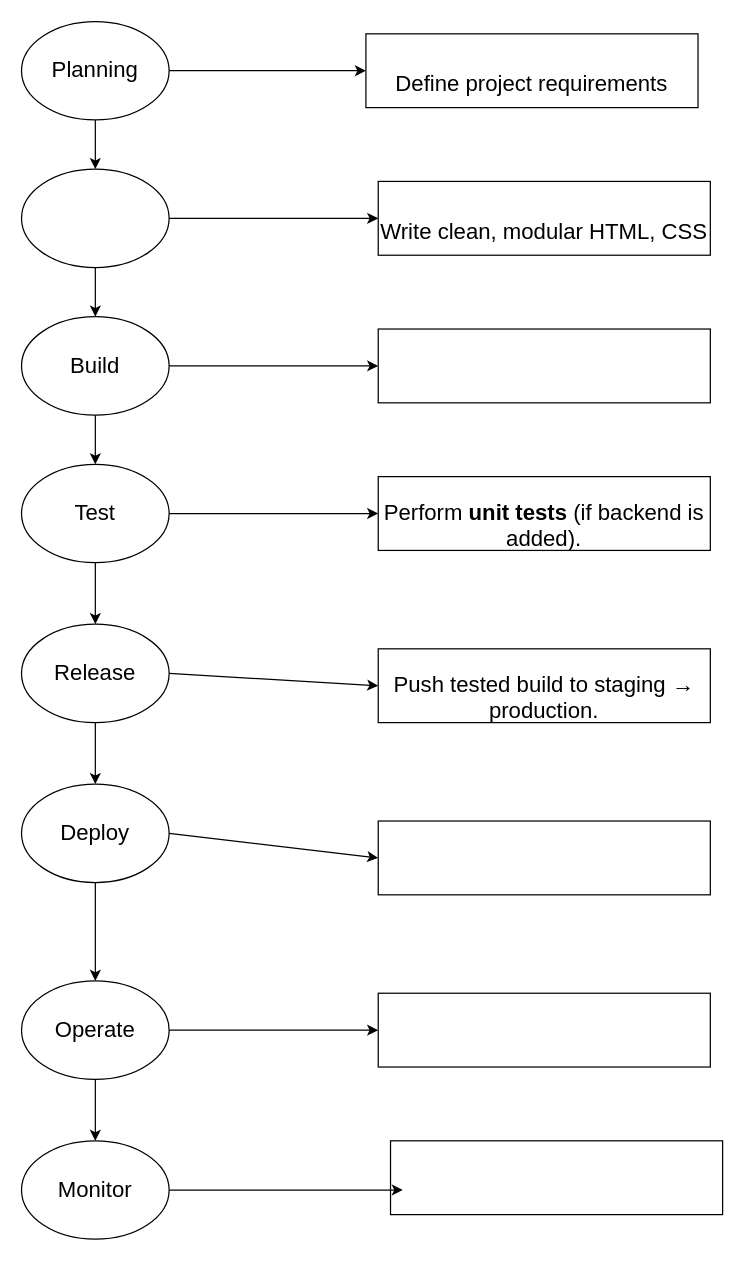
Some shapes in this 744 by 1261 pixel diagram are drawn without their labels. The shapes that lost their labels are listed below. From the top down, each one's centre as x and y in pixels, then its label:
the point at 94,218: Develop
the point at 543,365: Use CI/CD pipeline to automate builds.
the point at 543,857: Host website on web server or cloud :
the point at 543,1029: Monitor website uptime, response time, and errors.
the point at 556,1177: Collect user feedback (customers browsing menu).
